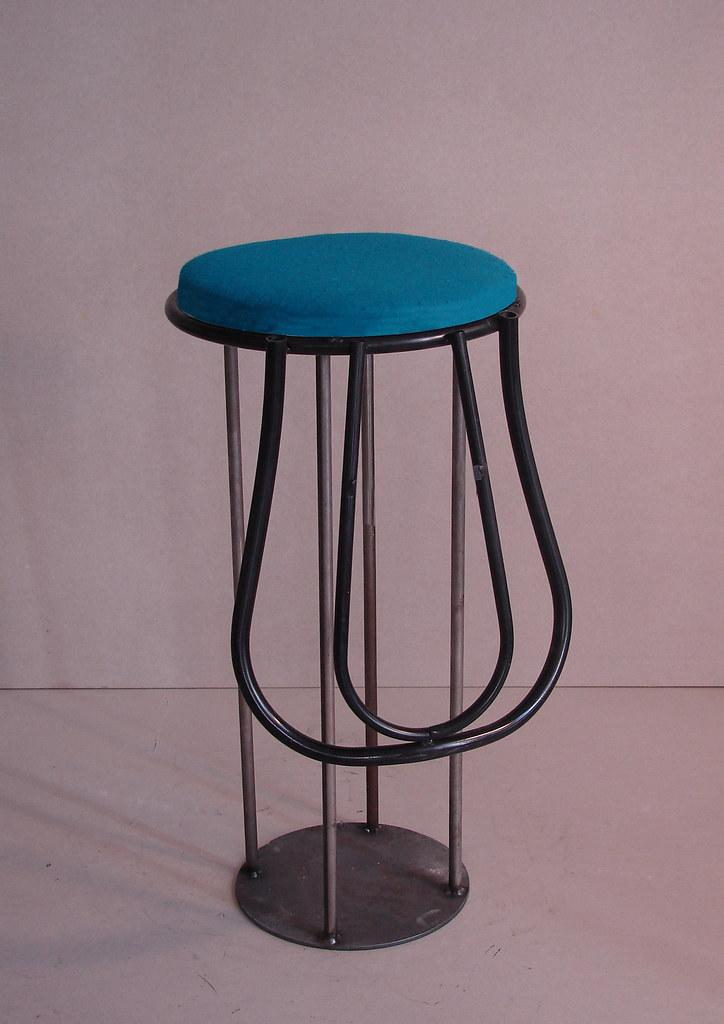chair: (164, 233, 574, 951)
